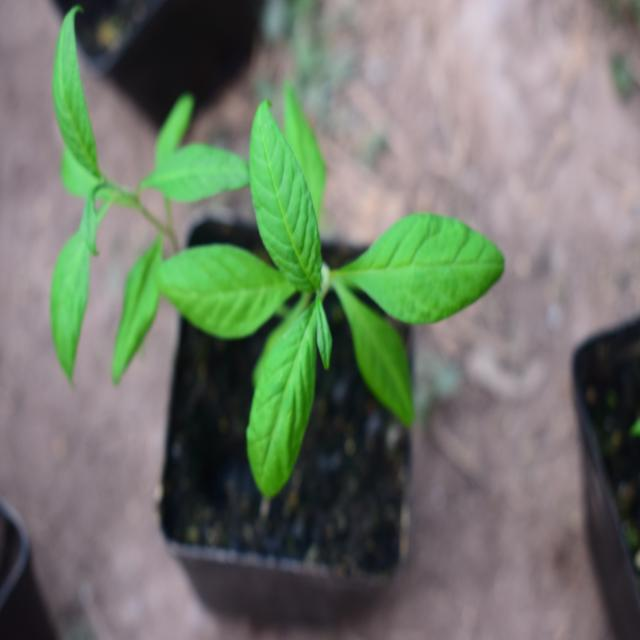white_smart_weed: (190, 110, 490, 477)
